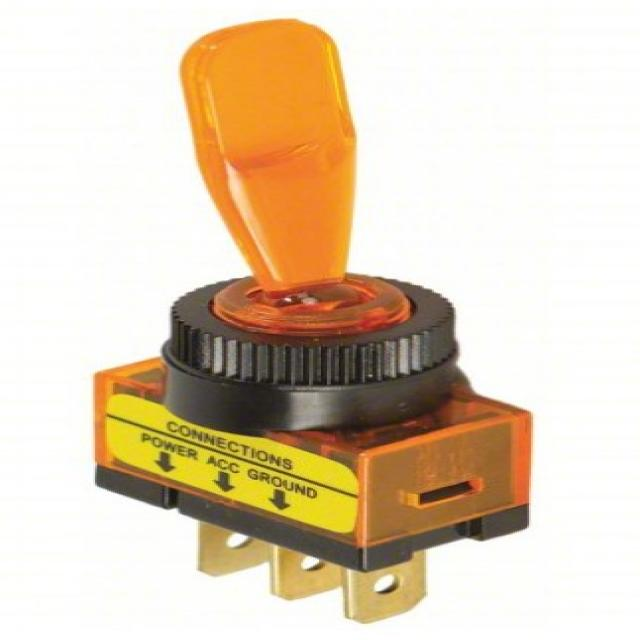toggle switch: (157, 21, 463, 393)
